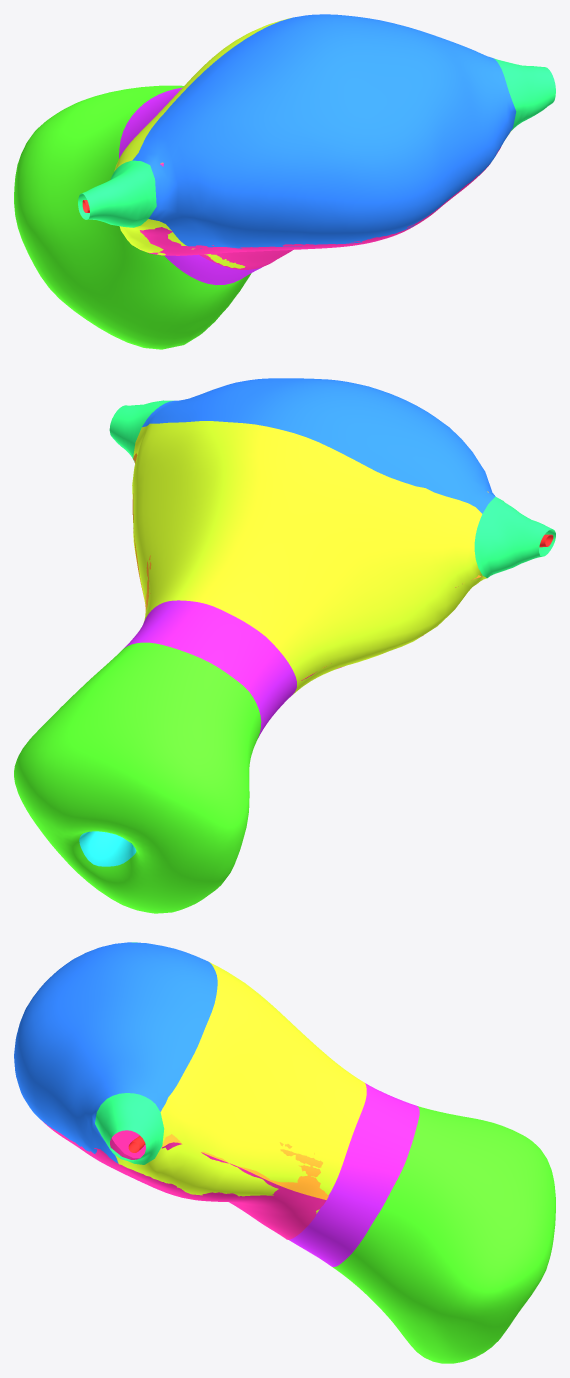
Rendered from uterus-female.glb.
3 views of the same model, one above another, from view 1: azimuth 30°, elevation 25°; view 2: azimuth 150°, elevation 25°; view 3: azimuth 270°, elevation 25° (orthographic). The views are drawn at different scales.
Parts seen in each view (by area): view 1: 0:7:VH_F_fundus_of_uterus, 0:5:VH_F_cervix, 0:6:VH_F_cornua, 0:9:VH_F_posterior_wall_of_uterus, 0:8:VH_F_lower_uterine_segment, 0:2:VH_F_body_of_uterus; view 2: 0:2:VH_F_body_of_uterus, 0:5:VH_F_cervix, 0:7:VH_F_fundus_of_uterus, 0:8:VH_F_lower_uterine_segment, 0:6:VH_F_cornua, 0:3:VH_F_external_cervical_os; view 3: 0:5:VH_F_cervix, 0:2:VH_F_body_of_uterus, 0:7:VH_F_fundus_of_uterus, 0:8:VH_F_lower_uterine_segment, 0:9:VH_F_posterior_wall_of_uterus, 0:6:VH_F_cornua, 0:1:VH_F_anterior_wall_of_uterus.
Boxes of the visible parts, x1,y1,x2,y2 form: 0:7:VH_F_fundus_of_uterus: [132, 14, 516, 248]; 0:5:VH_F_cervix: [14, 85, 251, 349]; 0:6:VH_F_cornua: [78, 58, 555, 227]; 0:9:VH_F_posterior_wall_of_uterus: [140, 147, 500, 269]; 0:8:VH_F_lower_uterine_segment: [119, 87, 262, 285]; 0:2:VH_F_body_of_uterus: [114, 18, 511, 268]; 0:2:VH_F_body_of_uterus: [132, 421, 486, 694]; 0:5:VH_F_cervix: [14, 642, 261, 913]; 0:7:VH_F_fundus_of_uterus: [142, 378, 495, 513]; 0:8:VH_F_lower_uterine_segment: [124, 600, 296, 737]; 0:6:VH_F_cornua: [109, 400, 555, 578]; 0:3:VH_F_external_cervical_os: [79, 831, 136, 866]; 0:5:VH_F_cervix: [332, 1106, 555, 1363]; 0:2:VH_F_body_of_uterus: [115, 962, 366, 1213]; 0:7:VH_F_fundus_of_uterus: [14, 942, 217, 1163]; 0:8:VH_F_lower_uterine_segment: [289, 1083, 419, 1266]; 0:9:VH_F_posterior_wall_of_uterus: [40, 1119, 326, 1239]; 0:6:VH_F_cornua: [95, 942, 164, 1164]; 0:1:VH_F_anterior_wall_of_uterus: [162, 1134, 328, 1199].
Bounding box in the file's own units: 0.0525 × 0.047 × 0.0587.
